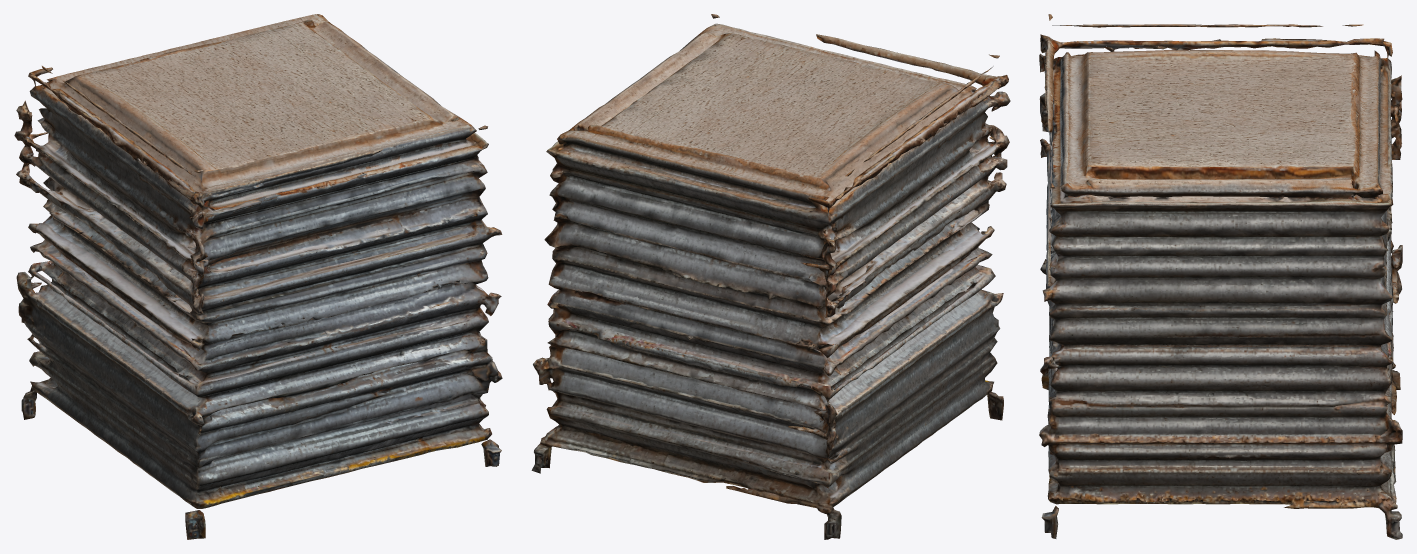
File: BKI_ShutterLeaf.fbx
3 views of the same model, side by side, from view 1: azimuth 30°, elevation 25°; view 2: azimuth 150°, elevation 25°; view 3: azimuth 270°, elevation 25° (orthographic). The views are drawn at different scales.
Parts seen in each view (by area): view 1: texture_mapping; view 2: texture_mapping; view 3: texture_mapping.
Part boxes in pixels (x1=…): texture_mapping: x1=14, y1=14, x2=502, y2=539; texture_mapping: x1=531, y1=14, x2=1010, y2=539; texture_mapping: x1=1039, y1=14, x2=1402, y2=539.
Size of the model in its own units: 0.8744 by 0.8687 by 0.9904.
Materials: 1 (1 with a texture image).
